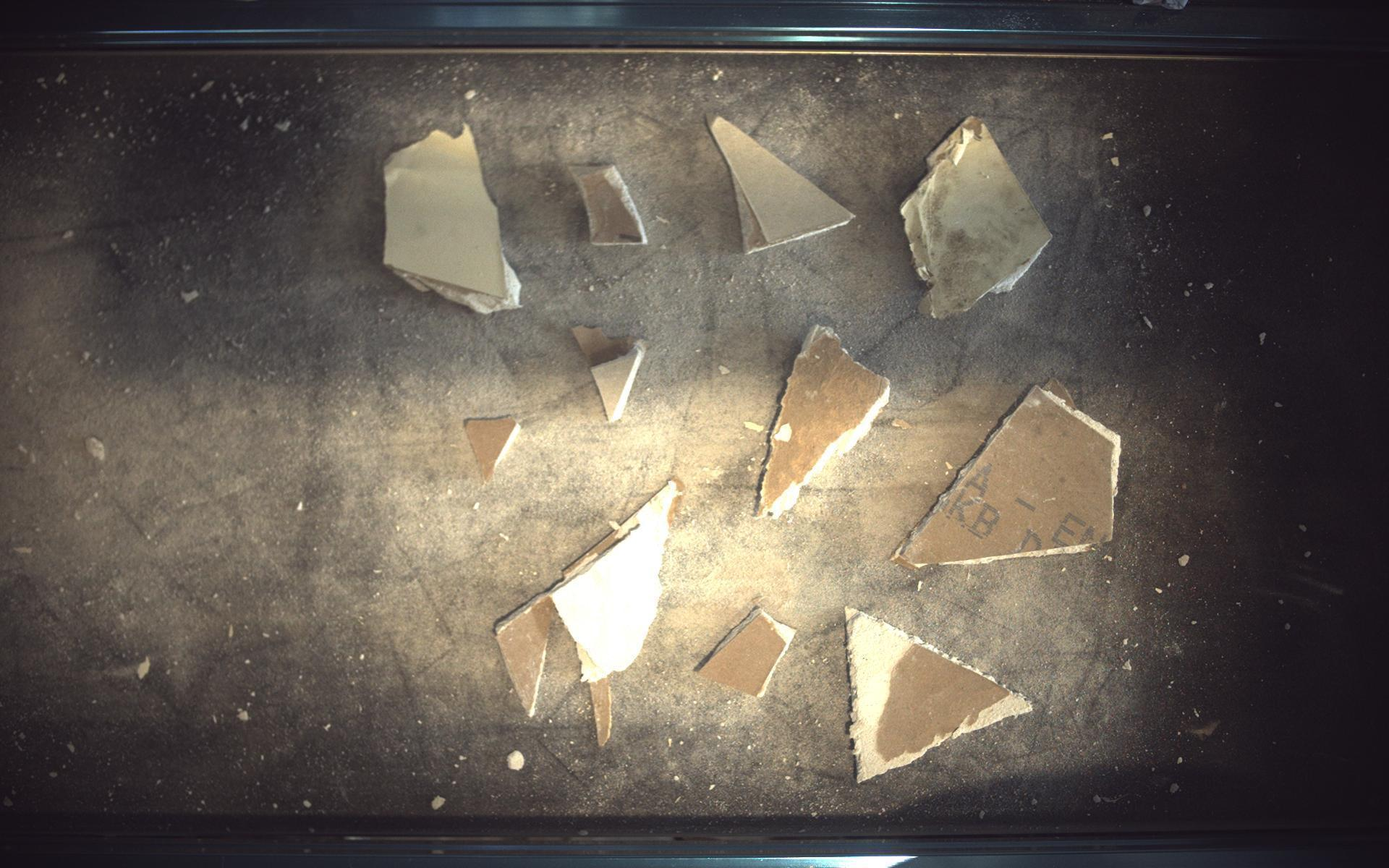gypsum_board: (495, 481, 681, 746), (893, 380, 1123, 569), (847, 608, 1035, 784), (902, 115, 1054, 318), (384, 124, 521, 314), (758, 326, 891, 518), (708, 114, 856, 252), (698, 606, 797, 698), (573, 327, 647, 423), (570, 164, 648, 244), (465, 417, 519, 482)
